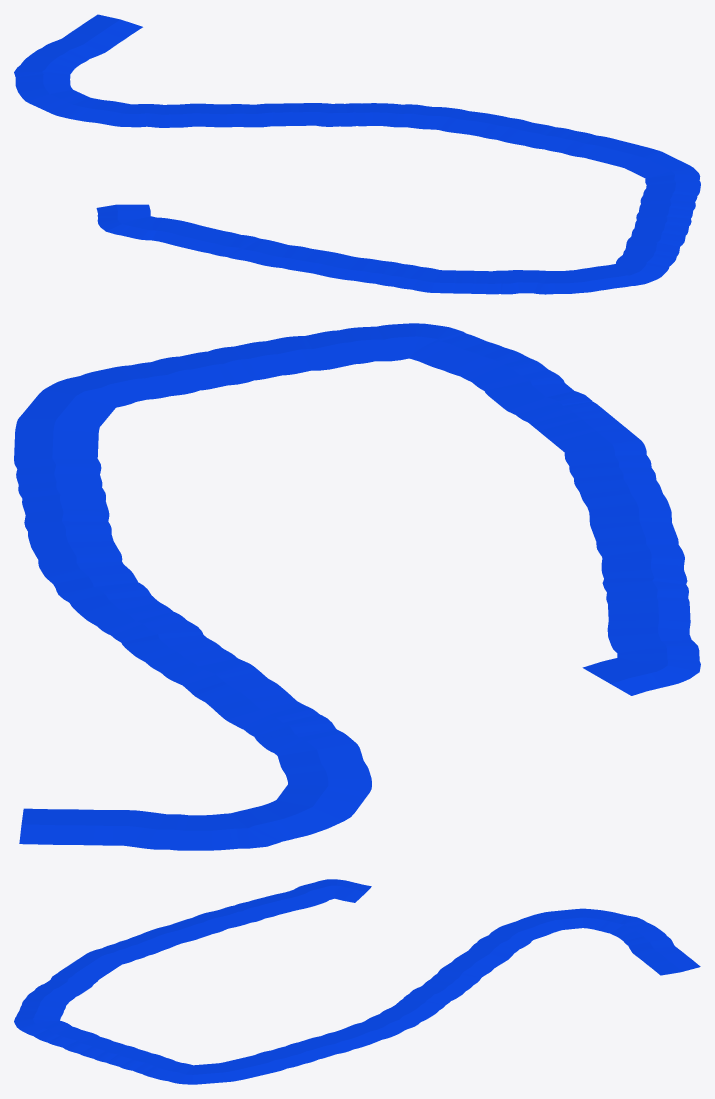
The picture shows the model from 3 angles, top to bottom: view 1: azimuth 30°, elevation 25°; view 2: azimuth 150°, elevation 25°; view 3: azimuth 270°, elevation 25°; orthographic projection. The views are drawn at different scales.
Parts seen in each view (by area): view 1: GP_Layer; view 2: GP_Layer; view 3: GP_Layer.
Part boxes in pixels (x1=…): GP_Layer: x1=14, y1=14, x2=700, y2=294; GP_Layer: x1=14, y1=323, x2=700, y2=850; GP_Layer: x1=14, y1=879, x2=700, y2=1084.
Size of the model in its own units: 0.1685 by 0.2382 by 0.00081.
